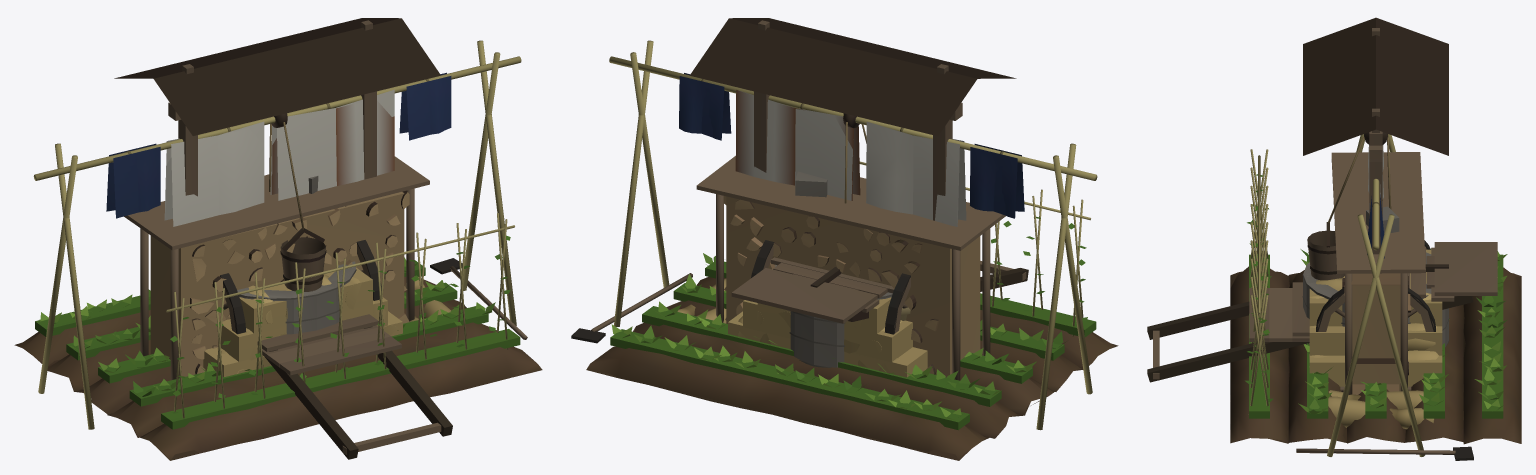
Rendered from yard.glb.
The picture shows the model from 3 angles, left to right: view 1: azimuth 30°, elevation 25°; view 2: azimuth 150°, elevation 25°; view 3: azimuth 270°, elevation 25°; orthographic projection. The views are drawn at different scales.
Parts seen in each view (by area): view 1: hatake, ido, hoshi, hoshi_far, maki_far, maki, hatake_far, kuruma_far, kuruma, wara_far, wara, ido_far; view 2: hatake, ido, hoshi, maki, maki_far, hatake_far, hoshi_far, kuruma_far, wara_far, kuruma, wara; view 3: hatake, ido, maki, kuruma_far, hatake_far, wara_far, hoshi, maki_far, kuruma, wara, hoshi_far, ido_far.
Boxes of the visible parts, x1=… form: hatake: x1=16, y1=213, x2=542, y2=460; ido: x1=114, y1=18, x2=440, y2=334; hoshi: x1=33, y1=40, x2=521, y2=429; hoshi_far: x1=34, y1=40, x2=520, y2=429; maki_far: x1=150, y1=192, x2=404, y2=378; maki: x1=124, y1=156, x2=429, y2=380; hatake_far: x1=14, y1=260, x2=536, y2=460; kuruma_far: x1=220, y1=242, x2=452, y2=459; kuruma: x1=220, y1=240, x2=452, y2=454; wara_far: x1=203, y1=267, x2=402, y2=376; wara: x1=217, y1=274, x2=450, y2=373; ido_far: x1=237, y1=244, x2=355, y2=297; hatake: x1=571, y1=161, x2=1118, y2=460; ido: x1=690, y1=18, x2=1016, y2=367; hoshi: x1=609, y1=40, x2=1097, y2=430; maki: x1=696, y1=155, x2=1005, y2=380; maki_far: x1=726, y1=196, x2=980, y2=377; hatake_far: x1=588, y1=260, x2=1117, y2=460; hoshi_far: x1=609, y1=42, x2=1097, y2=429; kuruma_far: x1=731, y1=242, x2=1028, y2=333; wara_far: x1=728, y1=269, x2=927, y2=377; kuruma: x1=751, y1=240, x2=910, y2=334; wara: x1=677, y1=278, x2=902, y2=373; hatake: x1=1230, y1=149, x2=1521, y2=460; ido: x1=1302, y1=17, x2=1449, y2=346; maki: x1=1331, y1=152, x2=1425, y2=394; kuruma_far: x1=1147, y1=242, x2=1497, y2=382; hatake_far: x1=1230, y1=254, x2=1521, y2=443; wara_far: x1=1309, y1=249, x2=1442, y2=391; hoshi: x1=1327, y1=134, x2=1424, y2=456; maki_far: x1=1352, y1=285, x2=1400, y2=391; kuruma: x1=1239, y1=240, x2=1477, y2=349; wara: x1=1309, y1=278, x2=1438, y2=429; hoshi_far: x1=1327, y1=134, x2=1423, y2=456; ido_far: x1=1306, y1=238, x2=1431, y2=297.
Size of the model in its own units: 3.9 by 2.52 by 2.83.
